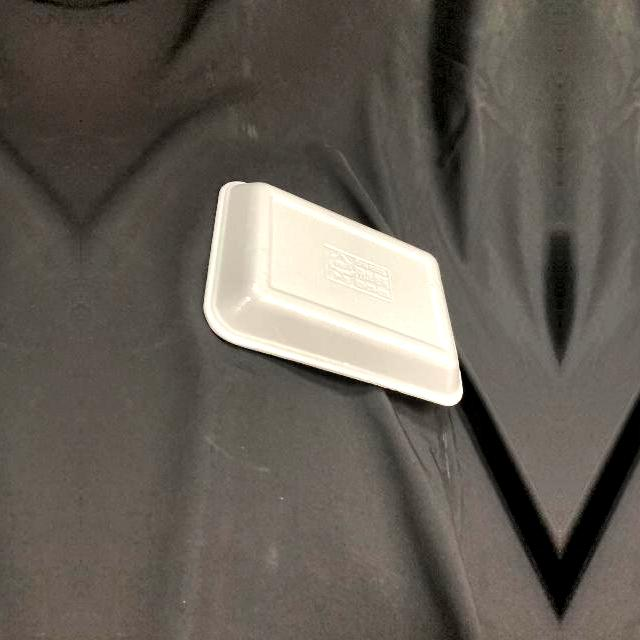Styrofoam: (202, 179, 464, 409), (202, 181, 462, 406)
